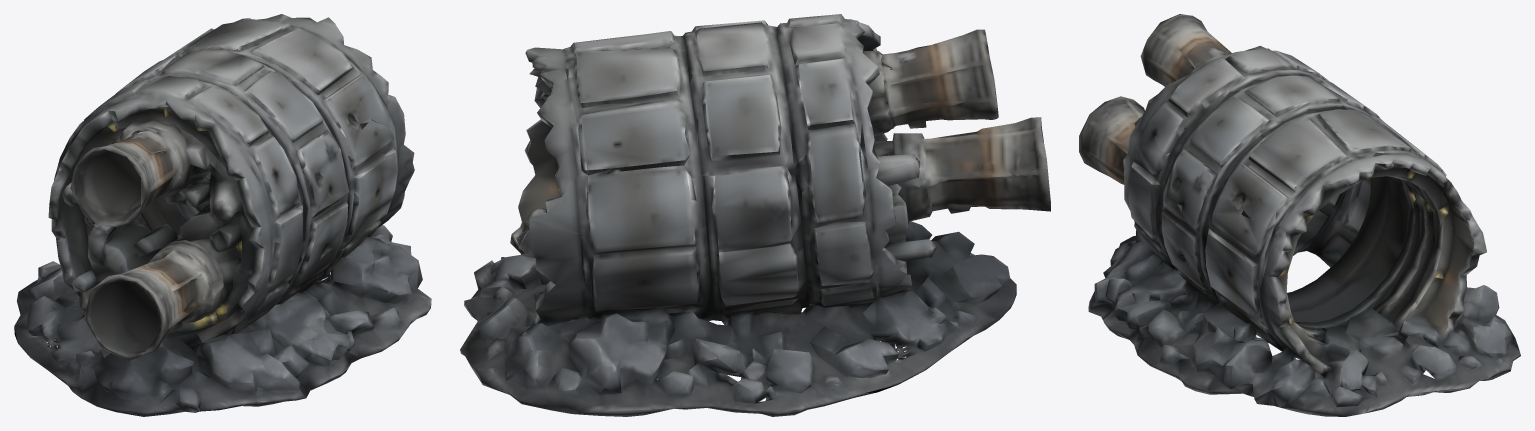
The picture shows the model from 3 angles, left to right: view 1: azimuth 30°, elevation 25°; view 2: azimuth 150°, elevation 25°; view 3: azimuth 270°, elevation 25°; orthographic projection. The views are drawn at different scales.
Visible parts, largest first — view 1: repaired; view 2: repaired; view 3: repaired.
Part boxes in pixels (bbox=[...]): repaired: bbox=[14, 14, 431, 416]; repaired: bbox=[460, 14, 1050, 416]; repaired: bbox=[1079, 14, 1520, 416].
Bounding box in the file's own units: 0.9924 × 0.6109 × 0.9989.
Materials: 1 (1 with a texture image).
